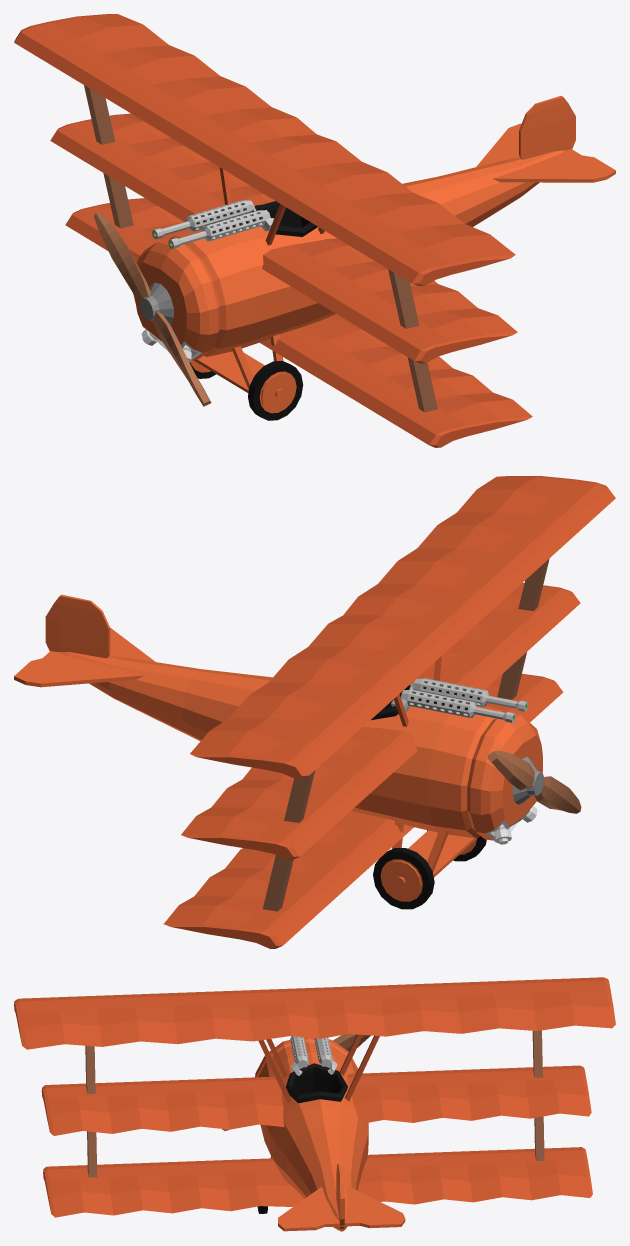
3 views of the same model, one above another, from view 1: azimuth 30°, elevation 25°; view 2: azimuth 150°, elevation 25°; view 3: azimuth 270°, elevation 25° (orthographic). The views are drawn at different scales.
Parts seen in each view (by area): view 1: plane, planeWheel; view 2: plane, planeWheel; view 3: plane.
Boxes of the visible parts, <box> form: plane: <box>14,14,615,447</box>; planeWheel: <box>94,212,211,406</box>; plane: <box>14,476,615,948</box>; planeWheel: <box>488,750,581,813</box>; plane: <box>14,977,615,1231</box>.
Bounding box in the file's own units: 10.4 × 5.42 × 13.83.
1 material, 1 textured.
